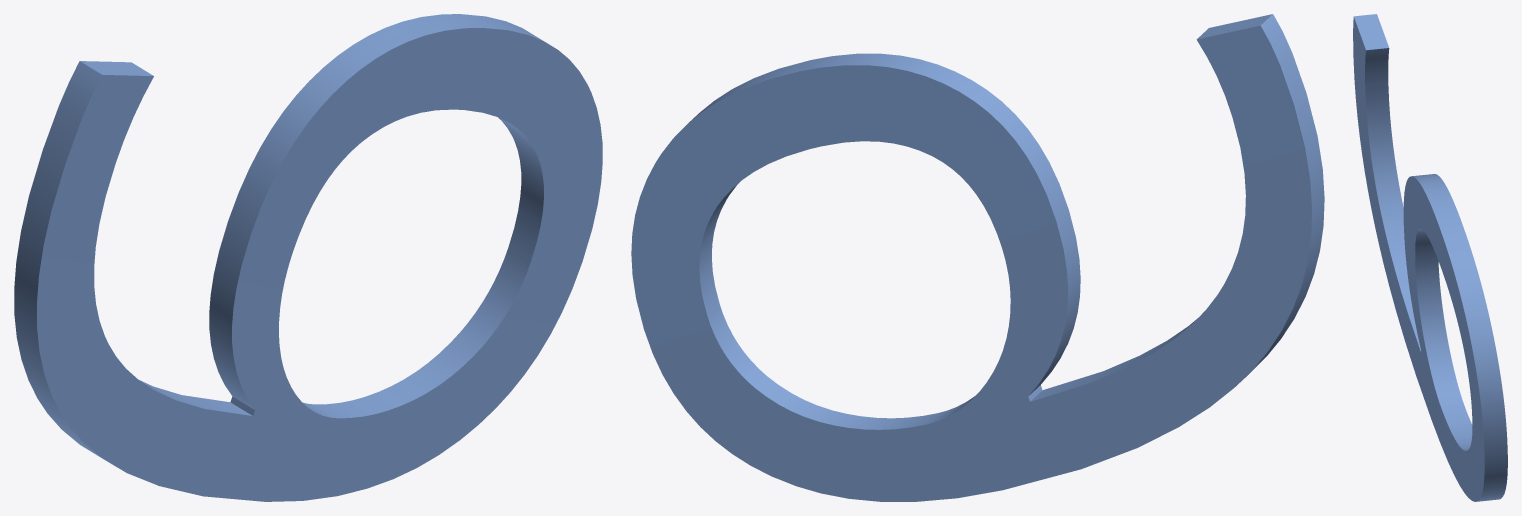
Rendered from New_Number_6.gltf.
3 renders of one model, left to right at view 1: azimuth 30°, elevation 25°; view 2: azimuth 150°, elevation 25°; view 3: azimuth 270°, elevation 25°, orthographic. The views are drawn at different scales.
Parts seen in each view (by area): view 1: Part 123; view 2: Part 123; view 3: Part 123.
Part boxes in pixels (x1,y1,x2,y2): Part 123: [14, 14, 602, 501]; Part 123: [631, 14, 1324, 501]; Part 123: [1353, 14, 1507, 501].
Bounding box in the file's own units: 0.0053 × 0.00426 × 0.00169.
